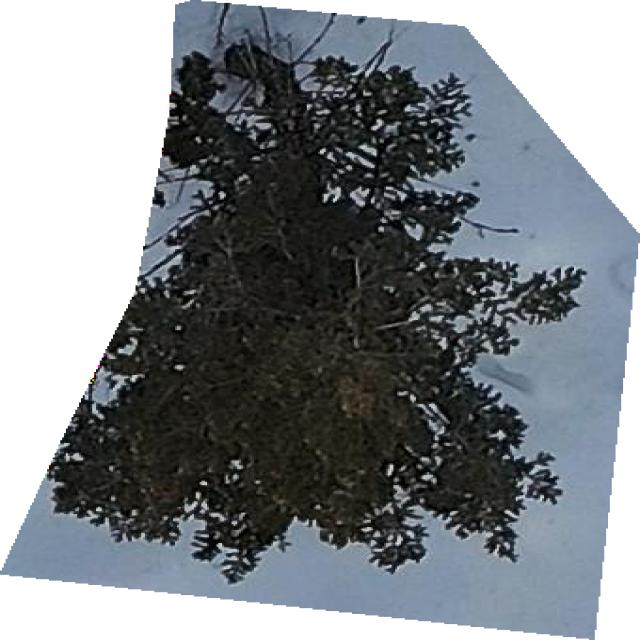pine: (47, 36, 584, 588)
